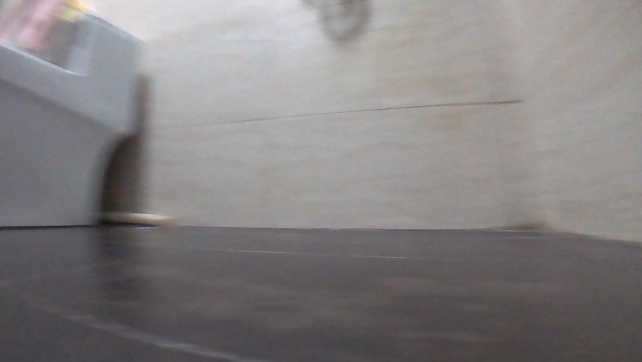toilet: (0, 13, 149, 229)
